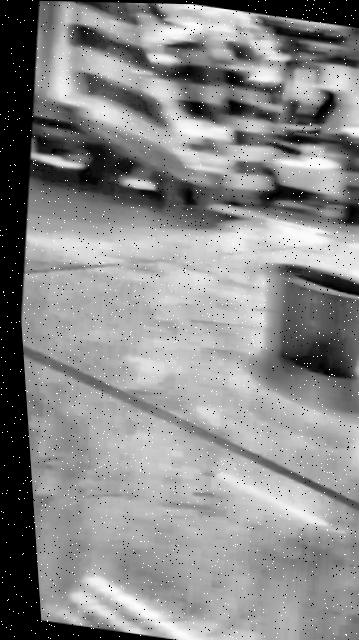pot: (251, 258, 359, 383)
